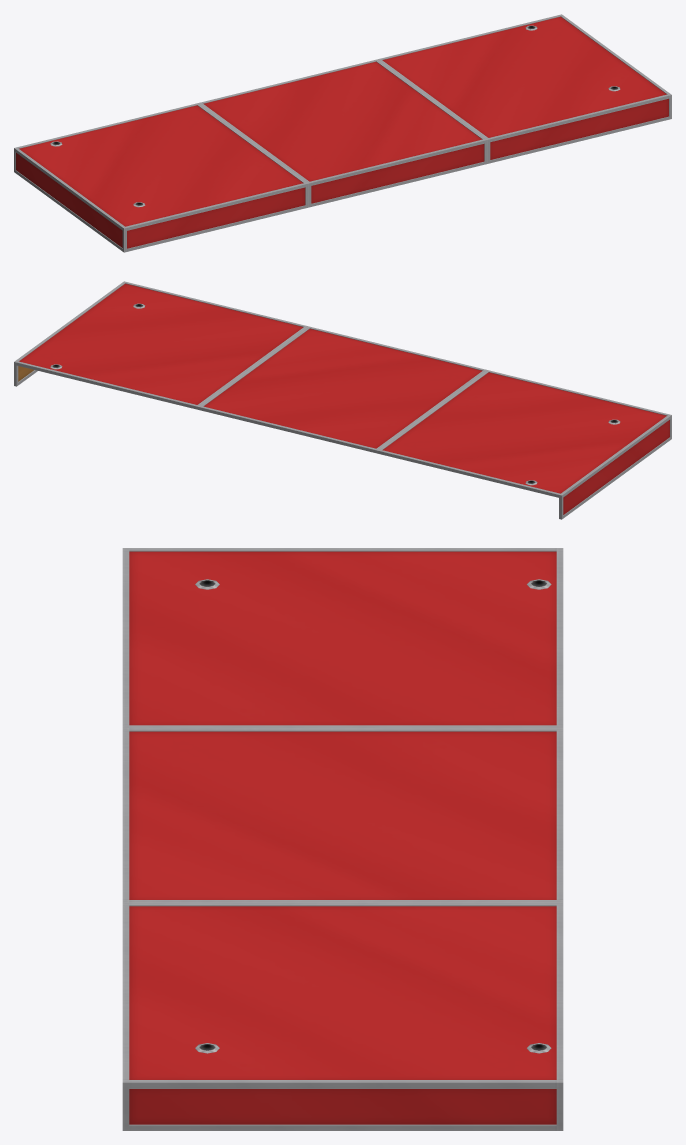
The model's file is jsf_4P_s03_c06_t01_DX.fbx.
3 renders of one model, top to bottom at view 1: azimuth 30°, elevation 25°; view 2: azimuth 150°, elevation 25°; view 3: azimuth 270°, elevation 25°, orthographic. The views are drawn at different scales.
Visible parts, largest first — view 1: jsf_4P_s03_c06_t01_DX; view 2: jsf_4P_s03_c06_t01_DX; view 3: jsf_4P_s03_c06_t01_DX.
Part boxes in pixels (x1,y1,x2,y2): jsf_4P_s03_c06_t01_DX: [14, 14, 671, 252]; jsf_4P_s03_c06_t01_DX: [14, 281, 671, 519]; jsf_4P_s03_c06_t01_DX: [122, 548, 563, 1130].
Size of the model in its own units: 298 by 12.99 by 104.
